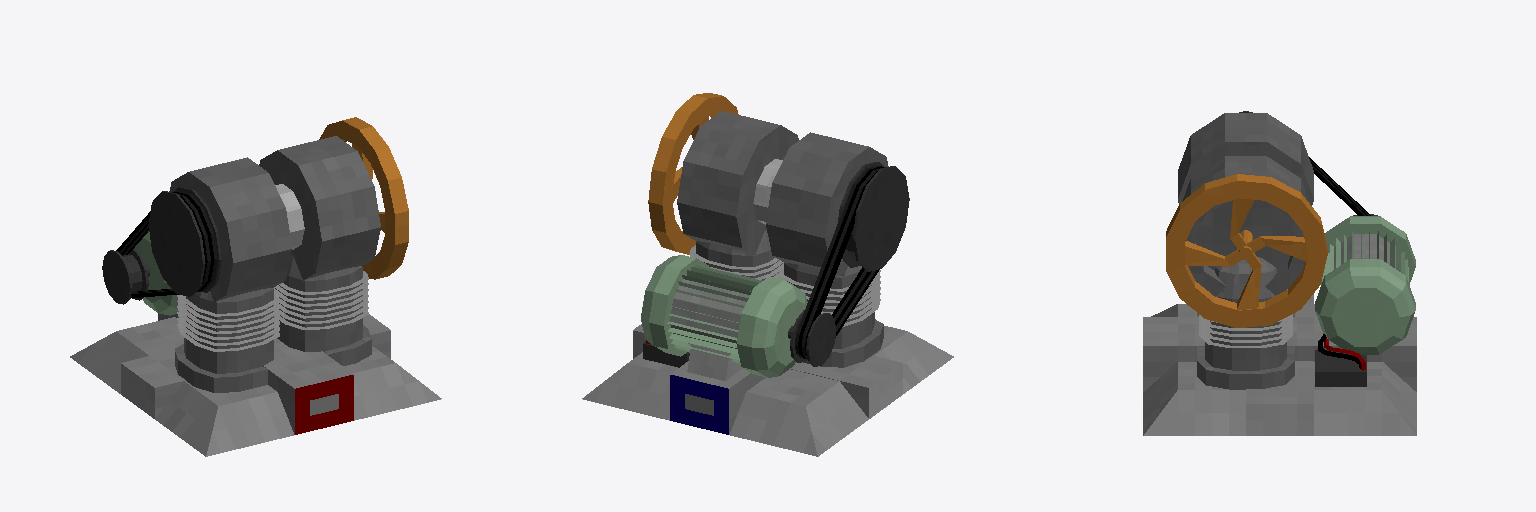
3 views of the same model, side by side, from view 1: azimuth 30°, elevation 25°; view 2: azimuth 150°, elevation 25°; view 3: azimuth 270°, elevation 25° (orthographic).
Parts seen in each view (by area): view 1: Base_Cylinder.006, FlywheelPulley_Cylinder.010, MotorPulley_Cylinder.012; view 2: Base_Cylinder.006, FlywheelPulley_Cylinder.010, MotorPulley_Cylinder.012; view 3: Base_Cylinder.006, FlywheelPulley_Cylinder.010.
Boxes of the visible parts, <box> form: Base_Cylinder.006: <box>70,136,441,456</box>; FlywheelPulley_Cylinder.010: <box>148,117,408,296</box>; MotorPulley_Cylinder.012: <box>102,248,150,304</box>; Base_Cylinder.006: <box>582,111,953,456</box>; FlywheelPulley_Cylinder.010: <box>648,93,909,271</box>; MotorPulley_Cylinder.012: <box>788,310,835,366</box>; Base_Cylinder.006: <box>1143,113,1416,435</box>; FlywheelPulley_Cylinder.010: <box>1166,111,1327,327</box>.
Size of the model in its own units: 1 by 0.9859 by 1.
Materials: 5 (1 with a texture image).